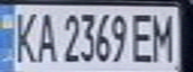2: (60, 9, 81, 63)
3: (78, 10, 96, 63)
6: (93, 10, 115, 63)
9: (109, 10, 133, 63)
A: (33, 8, 57, 64)
E: (130, 10, 160, 64)
K: (9, 7, 39, 64)
M: (148, 9, 181, 63)
